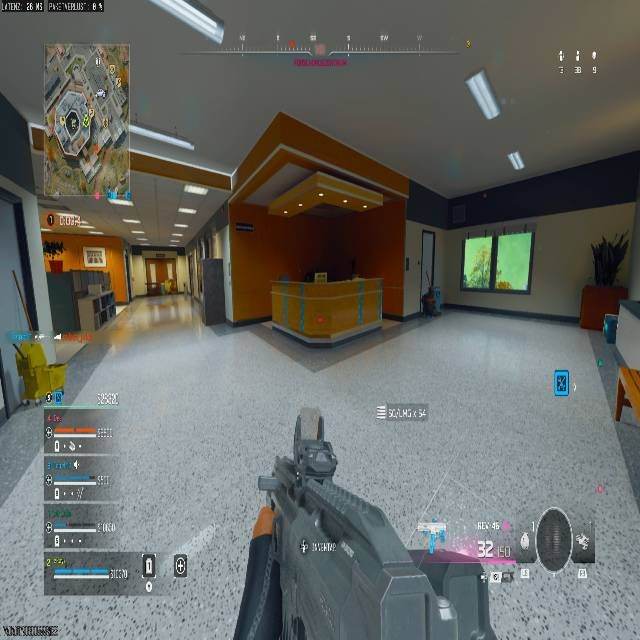player: (94, 290, 117, 327)
